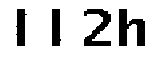2: (80, 4, 113, 51)
h: (116, 5, 148, 51)
l: (9, 6, 33, 53), (43, 6, 68, 49)
